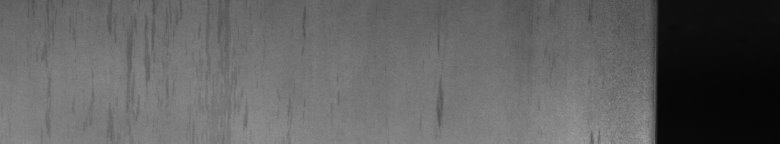ka: (109, 4, 155, 80)
